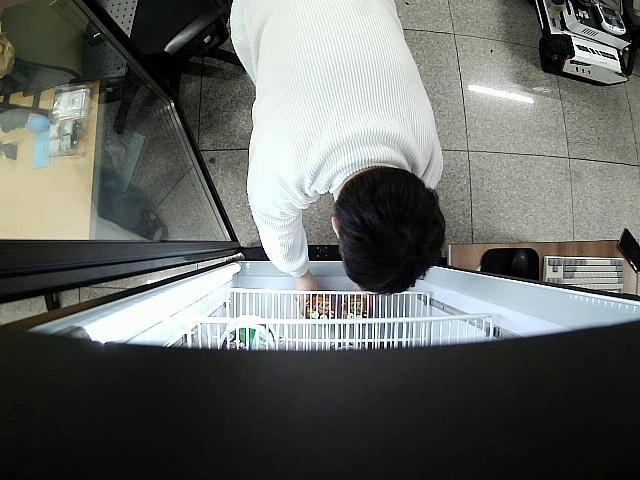06_nuguri_S: (310, 289, 336, 320), (343, 295, 368, 320)
